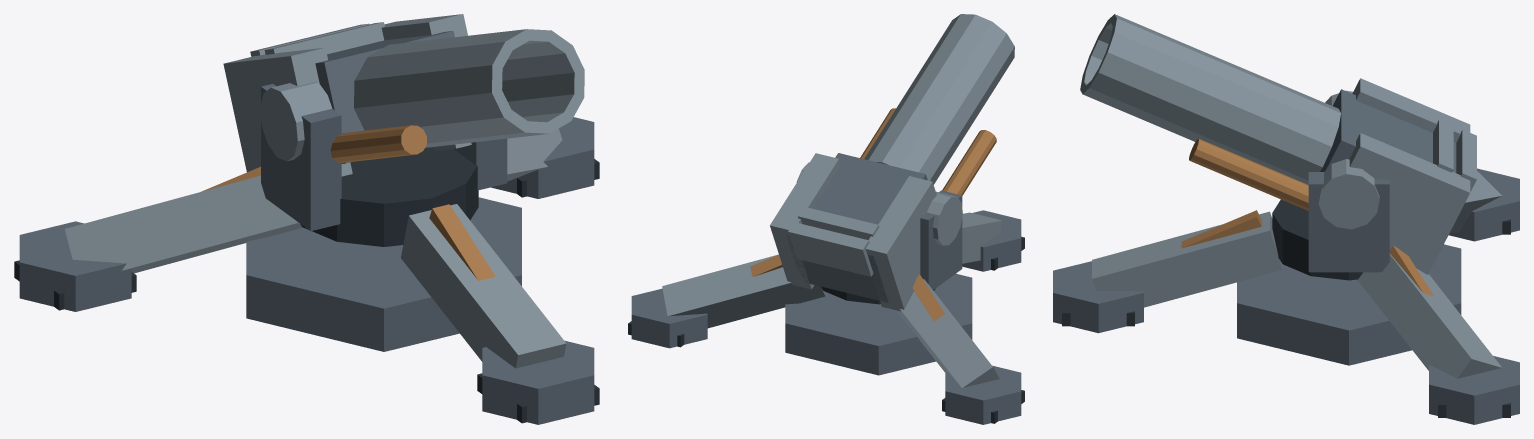
The model's file is howitzer_t1_d0.glb.
The picture shows the model from 3 angles, left to right: view 1: azimuth 30°, elevation 25°; view 2: azimuth 150°, elevation 25°; view 3: azimuth 270°, elevation 25°; orthographic projection. The views are drawn at different scales.
Parts seen in each view (by area): view 1: BASE_ARMOR_GEOMETRY, RECOIL_ARMOR_GEOMETRY, YAW_ARMOR_GEOMETRY; view 2: RECOIL_ARMOR_GEOMETRY, BASE_ARMOR_GEOMETRY, YAW_ARMOR_GEOMETRY; view 3: RECOIL_ARMOR_GEOMETRY, BASE_ARMOR_GEOMETRY, YAW_ARMOR_GEOMETRY.
Boxes of the visible parts, x1,y1,x2,y2 form: BASE_ARMOR_GEOMETRY: (14, 117, 599, 424); RECOIL_ARMOR_GEOMETRY: (223, 14, 584, 176); YAW_ARMOR_GEOMETRY: (261, 84, 507, 246); RECOIL_ARMOR_GEOMETRY: (770, 14, 1014, 311); BASE_ARMOR_GEOMETRY: (628, 210, 1024, 424); YAW_ARMOR_GEOMETRY: (820, 190, 962, 304); RECOIL_ARMOR_GEOMETRY: (1080, 14, 1476, 274); BASE_ARMOR_GEOMETRY: (1053, 168, 1519, 424); YAW_ARMOR_GEOMETRY: (1272, 172, 1389, 280).
Size of the model in its own units: 3.33 by 2.03 by 2.89.
